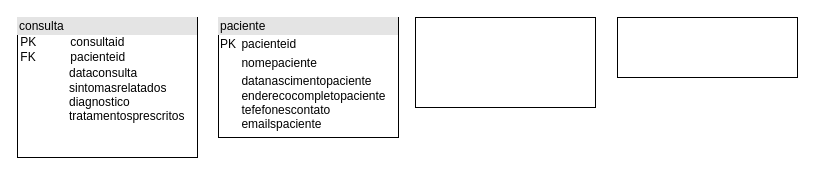
Some shapes in this 815 by 175 pixel diagram are drawn without their labels. Here are the shapes that lost their labels. From the top down, the centre of each, then its label:
At (x=505, y=62): "medico PK medicoid nomemedico especialidadesmedico crm".
At (x=707, y=47): "consultamedico PK consultaid PK medicoid".
